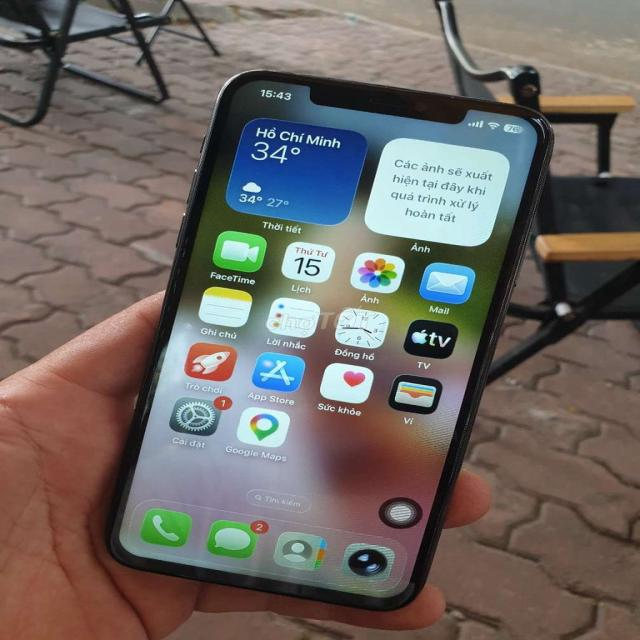gen_11: (107, 67, 557, 620)
scratch: (429, 84, 464, 107)
